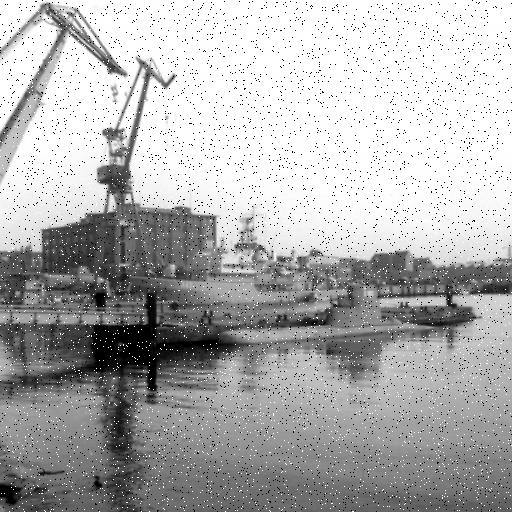submarine: (218, 282, 434, 347)
